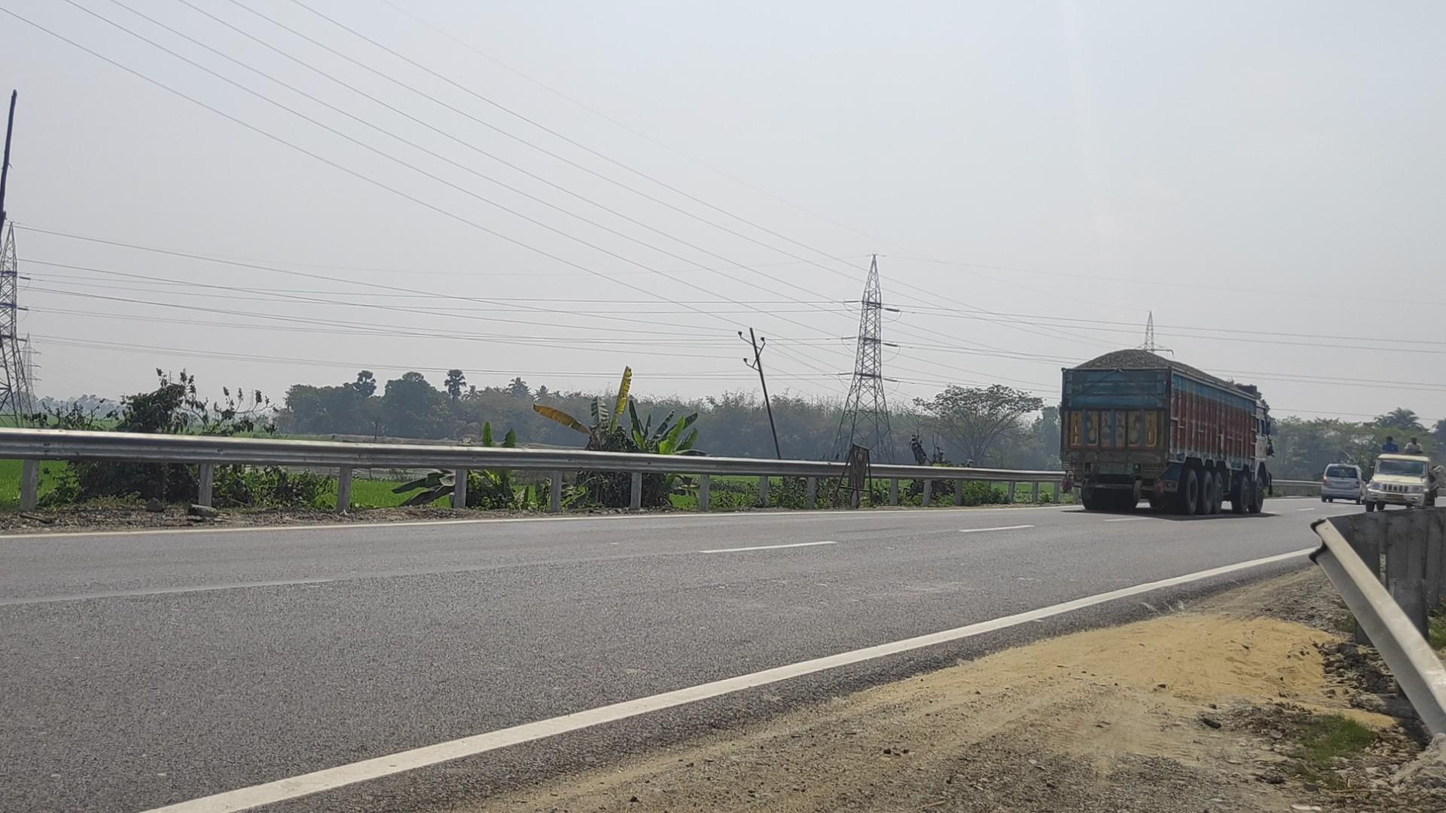car: (1321, 463, 1365, 505)
truck: (1060, 349, 1272, 516)
van: (1365, 437, 1443, 513)
